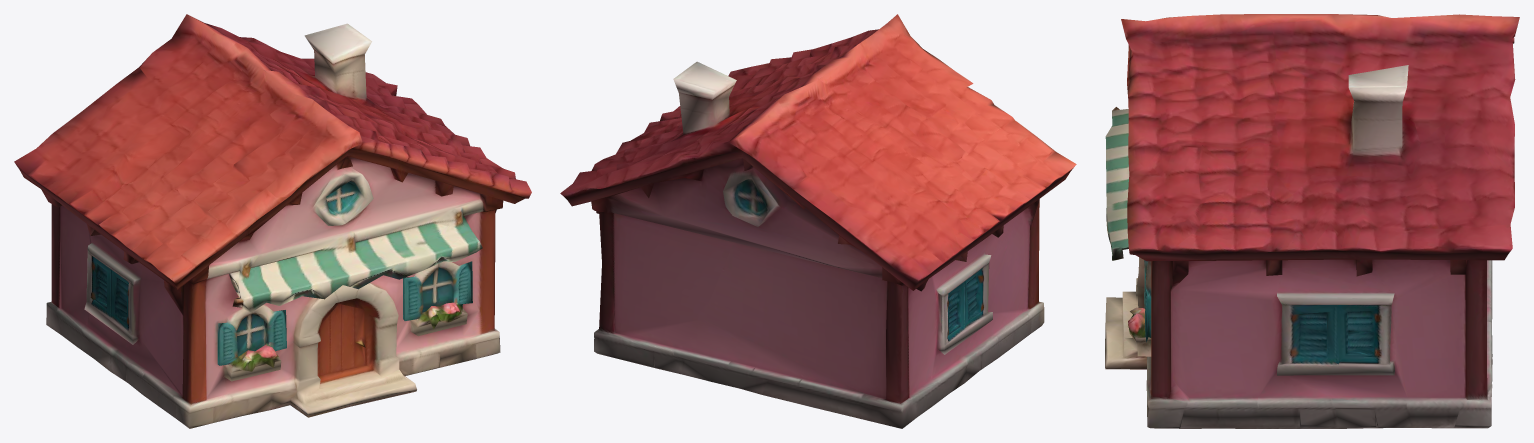
File: market-salmon-CqwGNqr7.glb
The picture shows the model from 3 angles, left to right: view 1: azimuth 30°, elevation 25°; view 2: azimuth 150°, elevation 25°; view 3: azimuth 270°, elevation 25°; orthographic projection. The views are drawn at different scales.
Parts seen in each view (by area): view 1: market-salmon; view 2: market-salmon; view 3: market-salmon.
Boxes of the visible parts, x1,y1,x2,y2 form: market-salmon: (14, 14, 531, 428); market-salmon: (560, 14, 1076, 428); market-salmon: (1105, 14, 1519, 428).
Bounding box in the file's own units: 8.8 × 6.2 × 7.2.
Materials: 1 (1 with a texture image).
